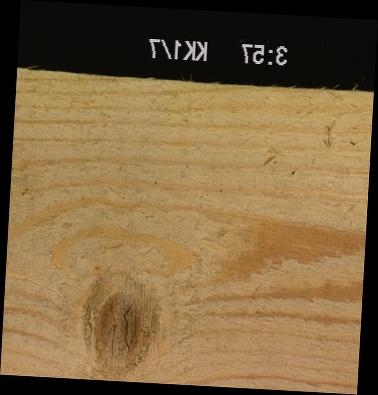sound_knot: (81, 279, 156, 375)
